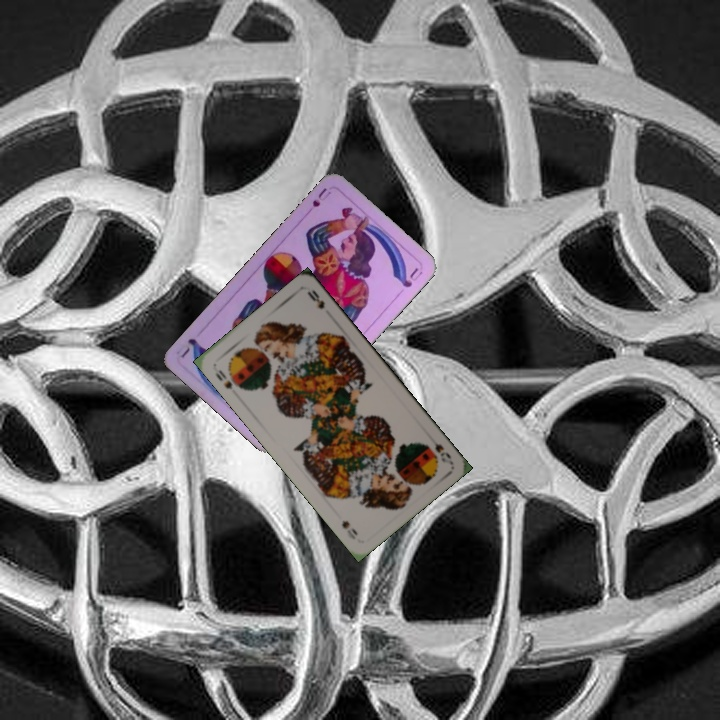SO: (430, 439, 454, 466), (211, 365, 235, 392)
SU: (303, 183, 334, 218)
